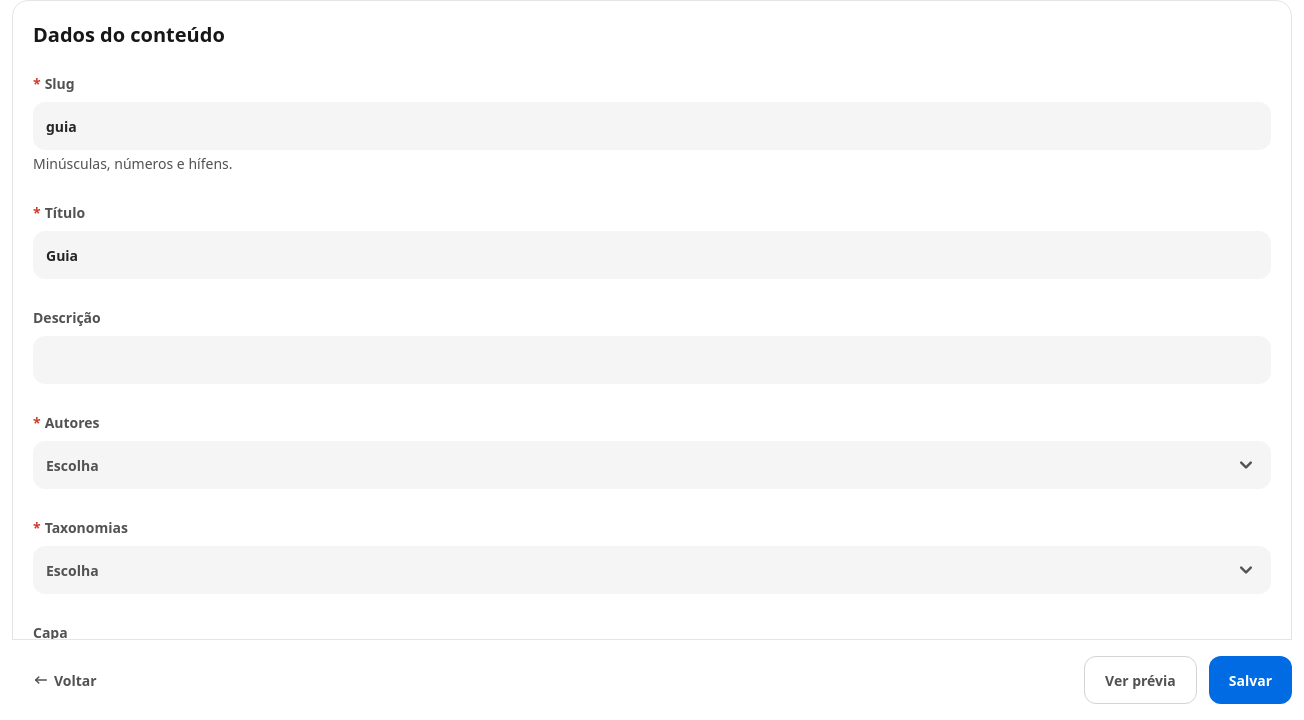
Test: ver prévia (#110) › alterado: o aviso aparece numa região anunciada e some depois de salvar
Type " revisado" into the field labelled "* Título". click: (652, 255)
box: [33,231,1271,279]
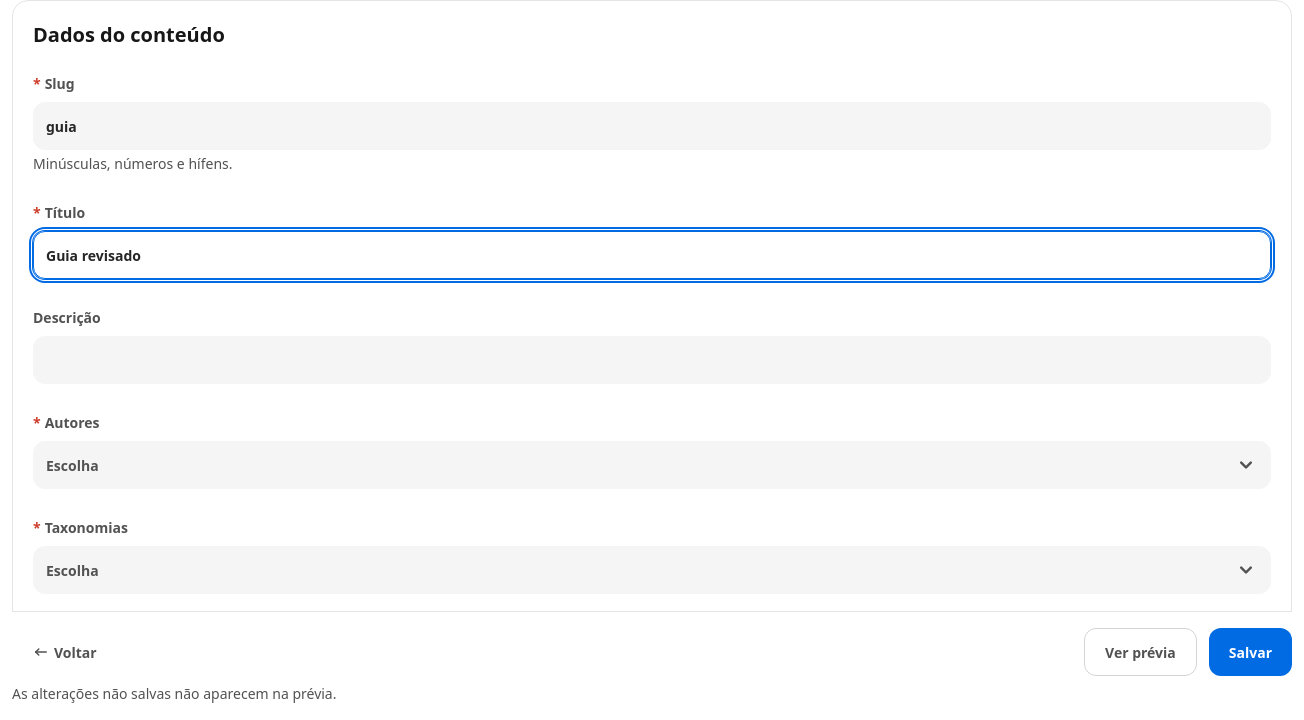
Expected: the text "As alterações não salvas não aparecem na prévia." is shown, [12,684,336,703]
Click the button "Salvar". click: click(1250, 652)
box: [1209,628,1292,676]
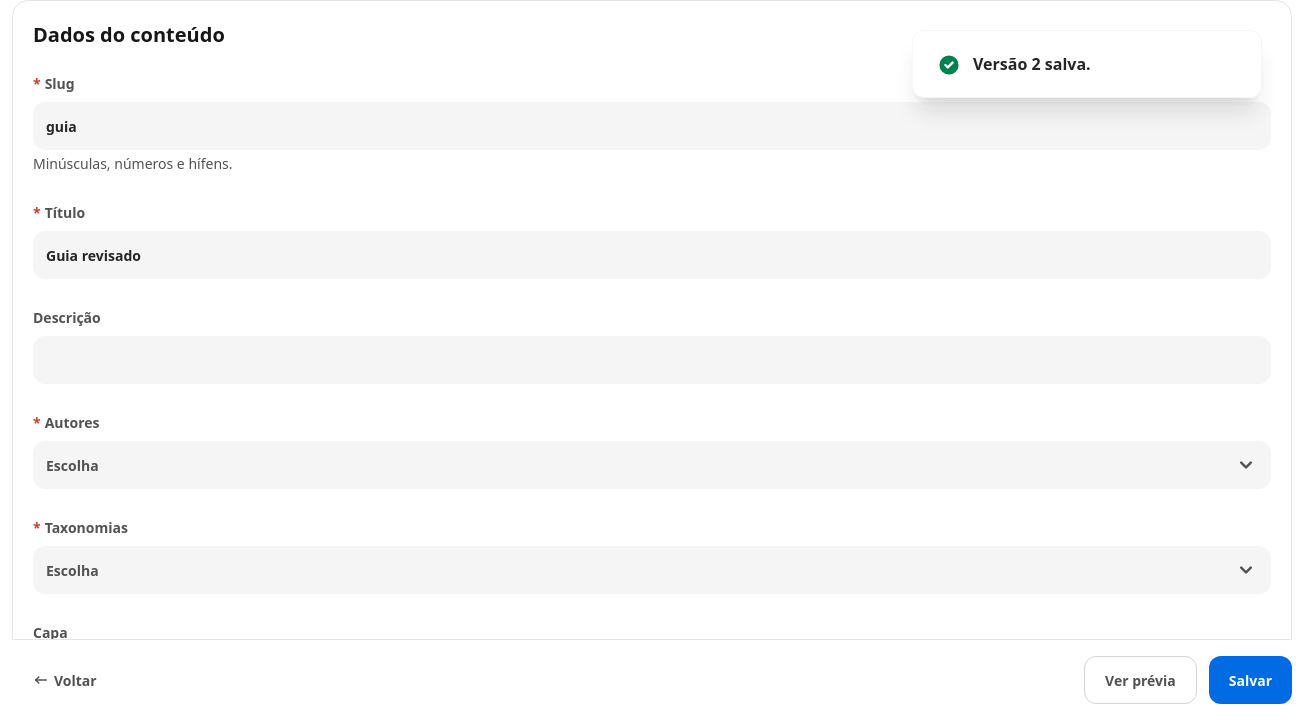
Expected: the text "Versão 2 salva." is shown, [973,52,1091,76]
